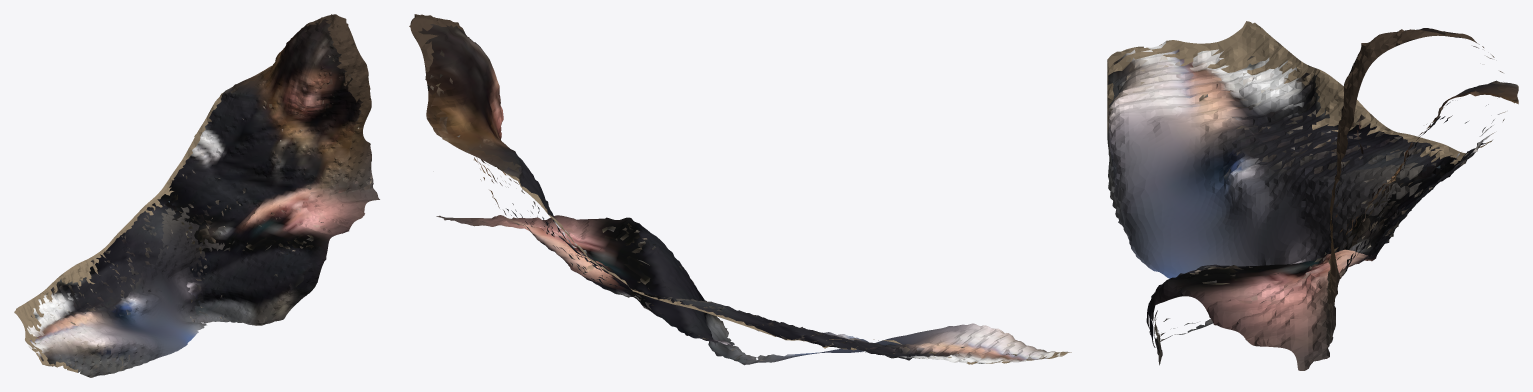
The picture shows the model from 3 angles, left to right: view 1: azimuth 30°, elevation 25°; view 2: azimuth 150°, elevation 25°; view 3: azimuth 270°, elevation 25°; orthographic projection. The views are drawn at different scales.
Size of the model in its own units: 1.19 by 0.6612 by 0.5455.
Materials: 1 (1 with a texture image).
